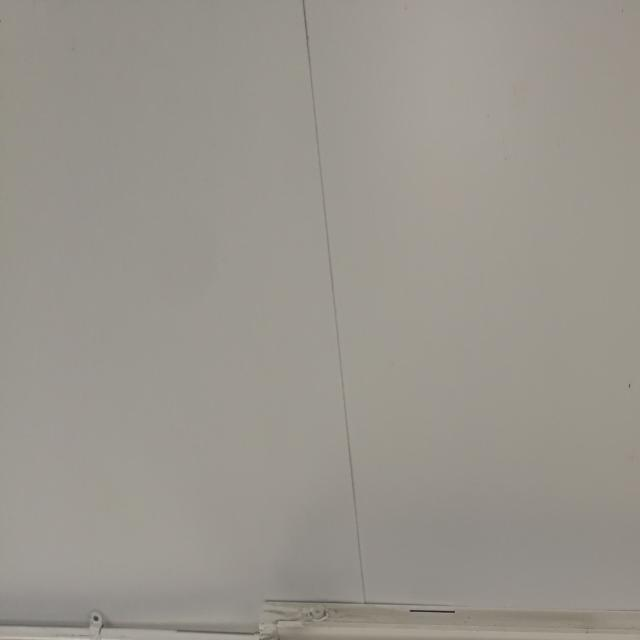fluorescent tube: (251, 604, 640, 639)
